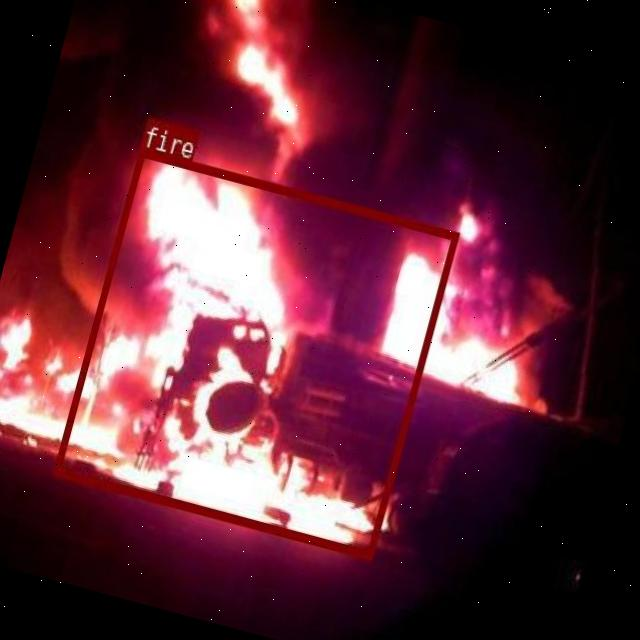fire: (52, 147, 458, 558)
